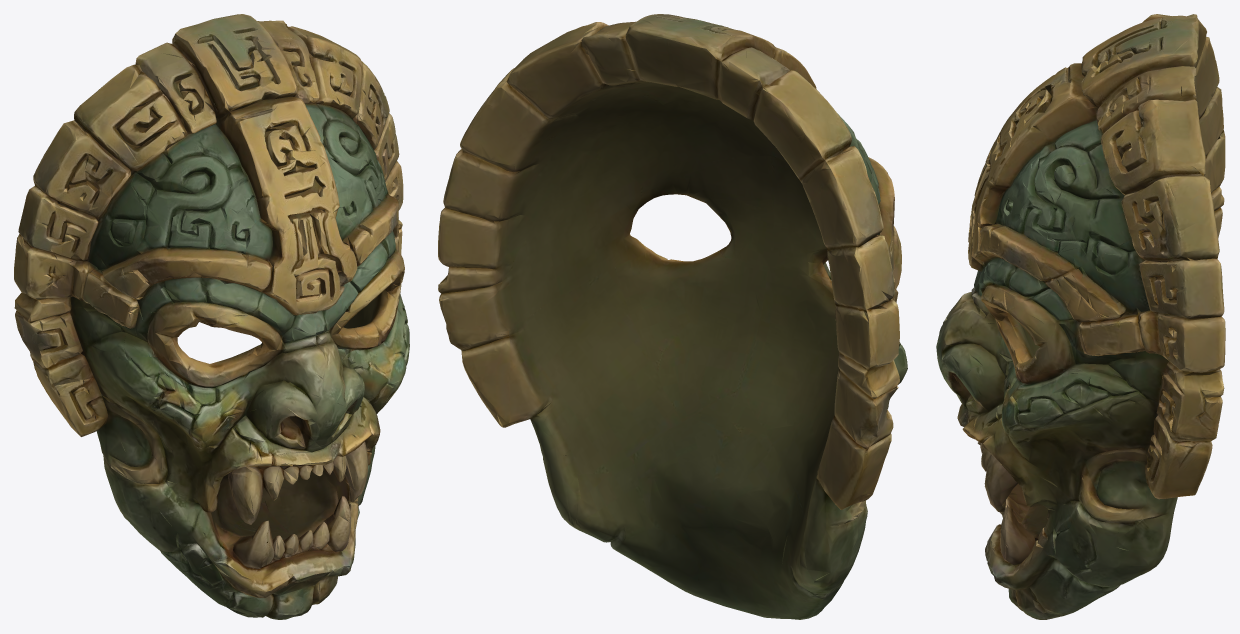
Rendered from relique-masque.glb.
3 renders of one model, left to right at view 1: azimuth 30°, elevation 25°; view 2: azimuth 150°, elevation 25°; view 3: azimuth 270°, elevation 25°, orthographic. The views are drawn at different scales.
Size of the model in its own units: 0.7128 by 0.9791 by 0.4464.
1 material, 1 textured.
